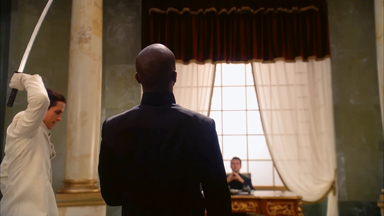bladed_weapon: (5, 1, 55, 109)
